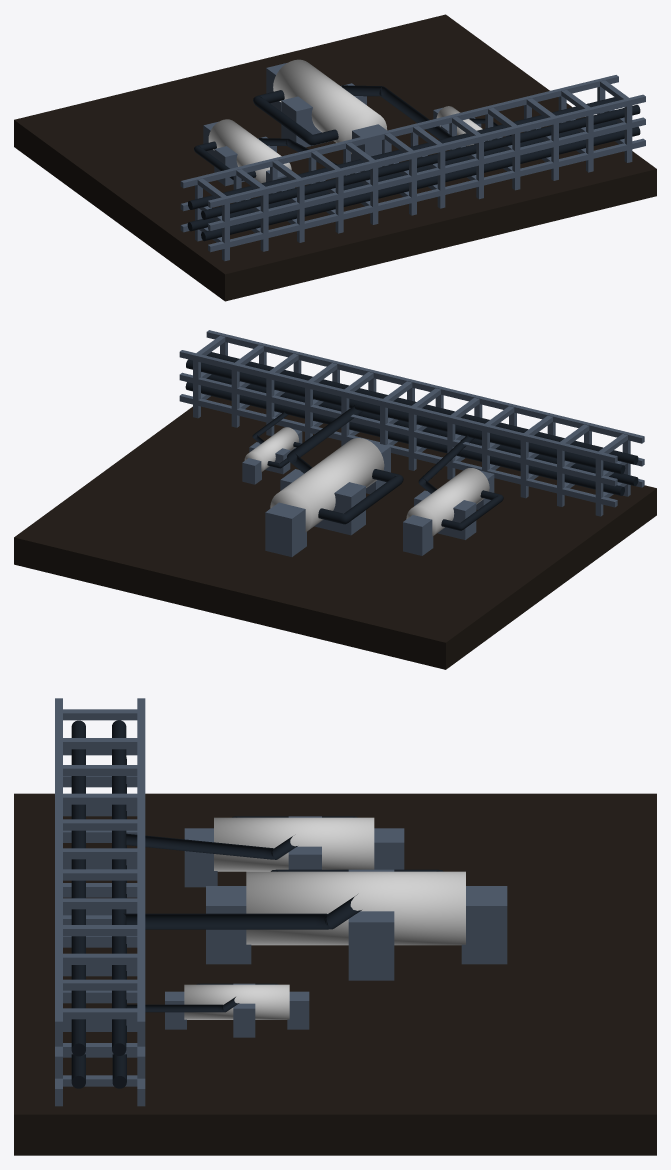
The model's file is Flare KO Drum.fbx.
3 views of the same model, one above another, from view 1: azimuth 30°, elevation 25°; view 2: azimuth 150°, elevation 25°; view 3: azimuth 270°, elevation 25° (orthographic). The views are drawn at different scales.
Visible parts, largest first — view 1: FlareKODrum; view 2: FlareKODrum; view 3: FlareKODrum.
Boxes of the visible parts, x1,y1,x2,y2 form: FlareKODrum: [14, 14, 656, 301]; FlareKODrum: [14, 330, 656, 669]; FlareKODrum: [14, 698, 656, 1155].
Size of the model in its own units: 101 by 19.72 by 84.57.
